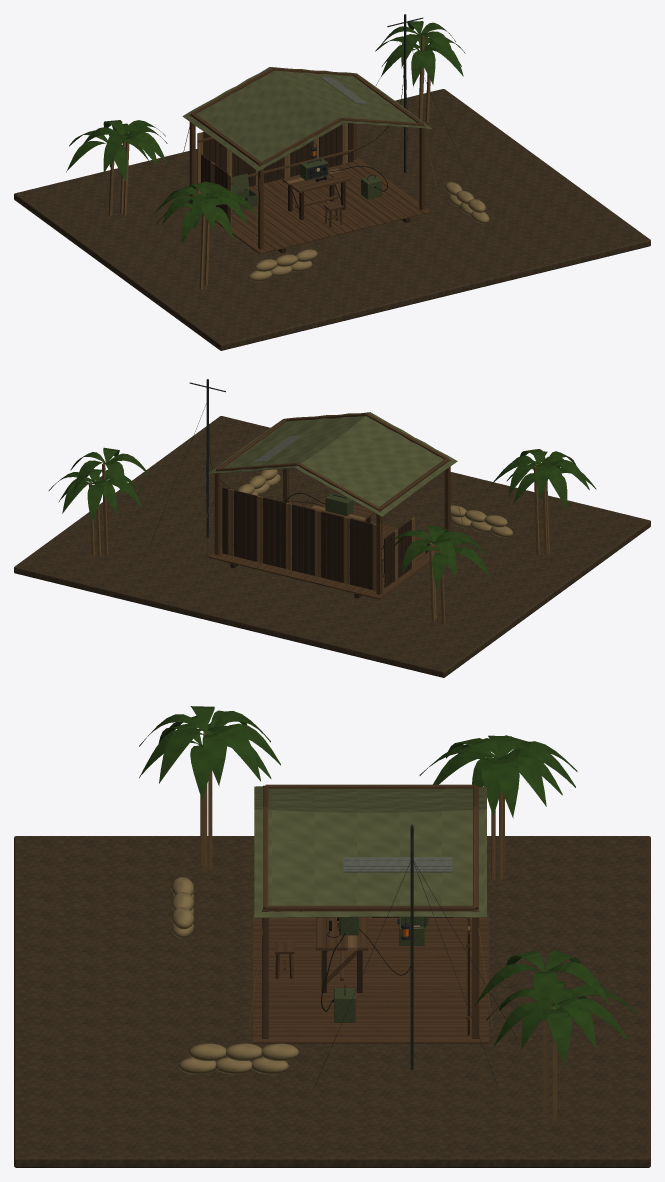
The model's file is C2_RadioOutpost.fbx.
3 renders of one model, top to bottom at view 1: azimuth 30°, elevation 25°; view 2: azimuth 150°, elevation 25°; view 3: azimuth 270°, elevation 25°, orthographic. The views are drawn at different scales.
Parts seen in each view (by area): view 1: Earth diorama base.001, Sagging canvas roof.001, Timber roof post.006, Raised floor plank.047, Raised floor plank.034, Raised floor plank.033, Raised floor plank.035, Raised floor plank.046, Timber roof post.004; view 2: Earth diorama base.001, Sagging canvas roof.001, Timber roof post.007, Timber roof post.005, Radio olive steel case, Raised floor plank.026, Field antenna mast, Wall board.091, Wall board.110, Wall board.096, Wall board.105, Wall board.090 (+7 smaller); view 3: Earth diorama base.001, Sagging canvas roof.001, Raised floor plank.047, Raised floor plank.046, Long eave rail.003, Raised floor plank.038, Raised floor plank.041, Raised floor plank.040, Raised floor plank.033, Raised floor plank.045, Raised floor plank.039, Raised floor plank.044 (+28 smaller).
Part boxes in pixels (x1,y1,x2,y2): Earth diorama base.001: (14,89,650,350); Sagging canvas roof.001: (182,67,432,171); Timber roof post.006: (419,125,425,209); Raised floor plank.047: (353,157,431,214); Raised floor plank.034: (252,185,329,238); Raised floor plank.033: (247,186,321,240); Raised floor plank.035: (264,182,337,236); Raised floor plank.046: (346,161,423,215); Timber roof post.004: (258,164,263,249); Earth diorama base.001: (14,416,650,677); Sagging canvas roof.001: (208,412,457,516); Timber roof post.007: (214,470,220,555); Timber roof post.005: (376,510,382,594); Radio olive steel case: (325,493,353,516); Raised floor plank.026: (373,550,439,599); Field antenna mast: (206,379,208,537); Wall board.091: (349,518,355,585); Wall board.110: (239,491,245,558); Wall board.096: (320,511,326,578); Wall board.105: (268,498,274,565); Wall board.090: (355,520,361,587); Earth diorama base.001: (14,836,650,1167); Sagging canvas roof.001: (254,786,486,918); Raised floor plank.047: (253,1036,488,1043); Raised floor plank.046: (253,1030,488,1036); Long eave rail.003: (265,905,475,911); Raised floor plank.038: (253,983,487,989); Raised floor plank.041: (253,1001,488,1007); Raised floor plank.040: (253,995,488,1001); Raised floor plank.033: (253,954,488,960); Raised floor plank.045: (253,1025,488,1030); Raised floor plank.039: (253,989,488,995); Raised floor plank.044: (253,1019,488,1024).
Bounding box in the file's own units: 1200 × 441 × 1000.
Materials: 15 (15 with a texture image).
